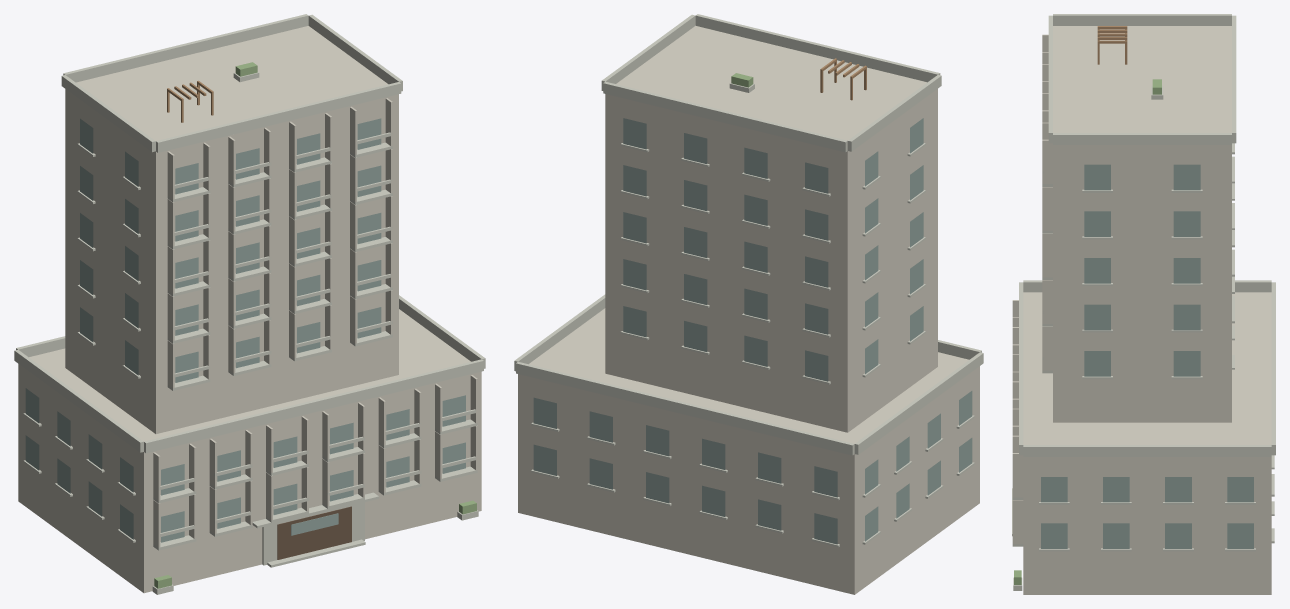
The model's file is residential_3x2_b.glb.
3 renders of one model, left to right at view 1: azimuth 30°, elevation 25°; view 2: azimuth 150°, elevation 25°; view 3: azimuth 270°, elevation 25°, orthographic.
Parts seen in each view (by area): view 1: residential_3x2_b_0; view 2: residential_3x2_b_0; view 3: residential_3x2_b_0.
Part boxes in pixels (<box>): residential_3x2_b_0: <box>14,14,485,594</box>; residential_3x2_b_0: <box>514,14,983,594</box>; residential_3x2_b_0: <box>1012,14,1275,594</box>.
Bounding box in the file's own units: 23 × 28.5 × 15.4.
